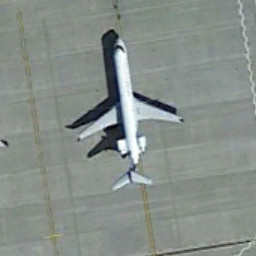Airplane: (66, 23, 190, 196)
